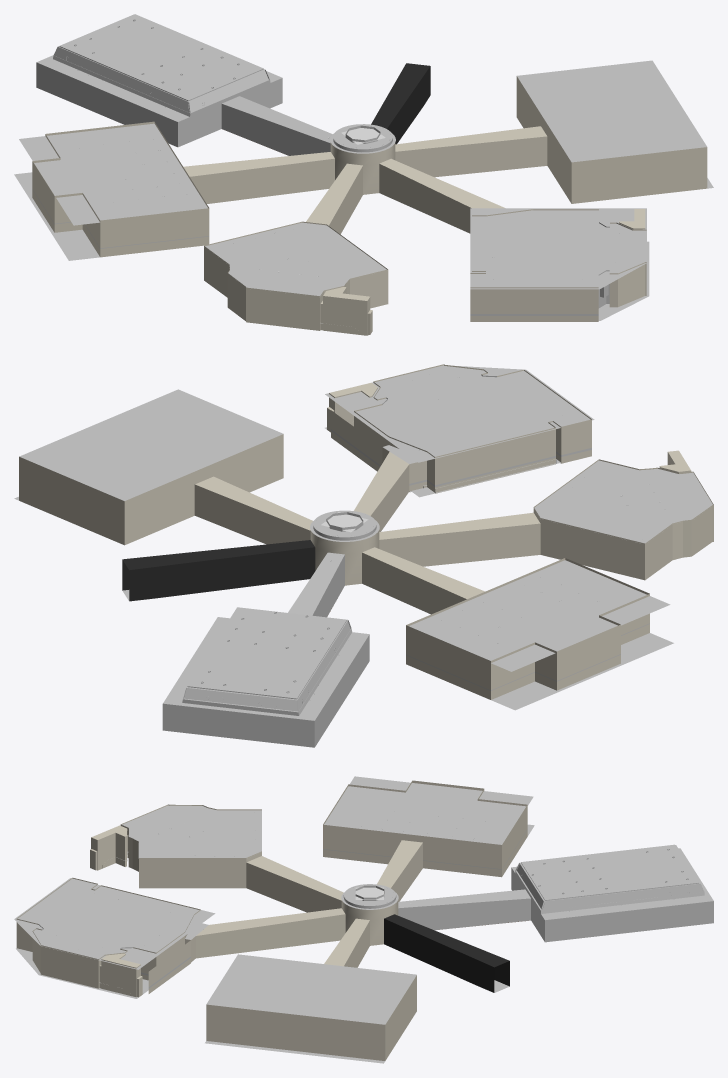
File: Circular Room.fbx
3 views of the same model, one above another, from view 1: azimuth 30°, elevation 25°; view 2: azimuth 150°, elevation 25°; view 3: azimuth 270°, elevation 25° (orthographic). The views are drawn at different scales.
Visible parts, largest first — view 1: Circle.034; view 2: Circle.034; view 3: Circle.034.
Part boxes in pixels (left/top/right/bottom): Circle.034: left=14, top=14, right=713, bottom=335; Circle.034: left=14, top=364, right=713, bottom=747; Circle.034: left=14, top=776, right=713, bottom=1063.
Size of the model in its own units: 4515 by 351 by 5165.
